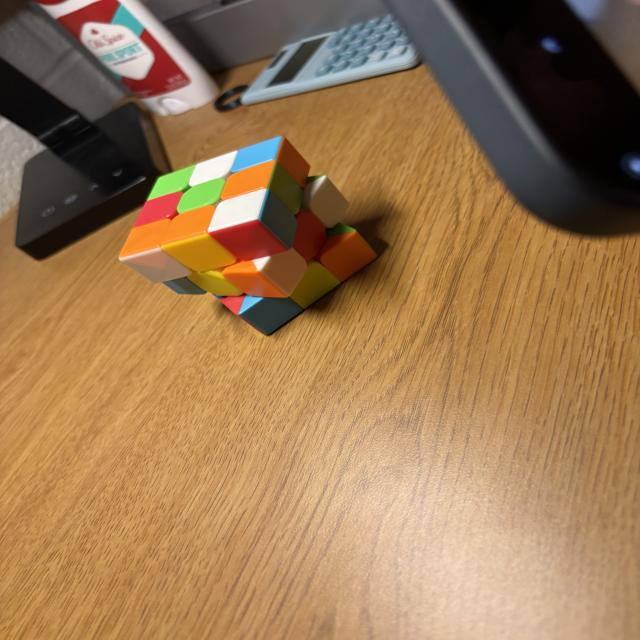Rubiks Cube: (119, 136, 378, 336)
